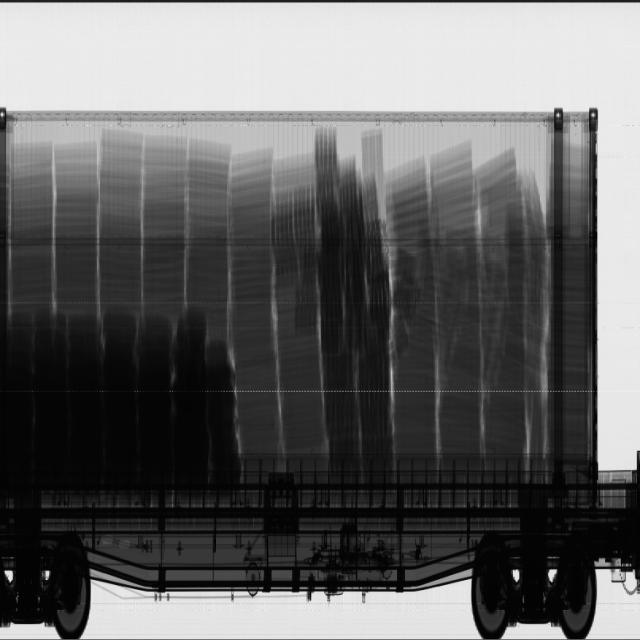fabrics: (9, 130, 328, 460), (389, 138, 588, 462)
